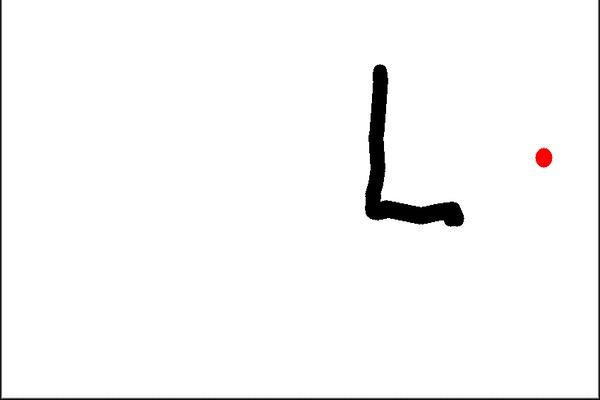L: (351, 57, 471, 234)
